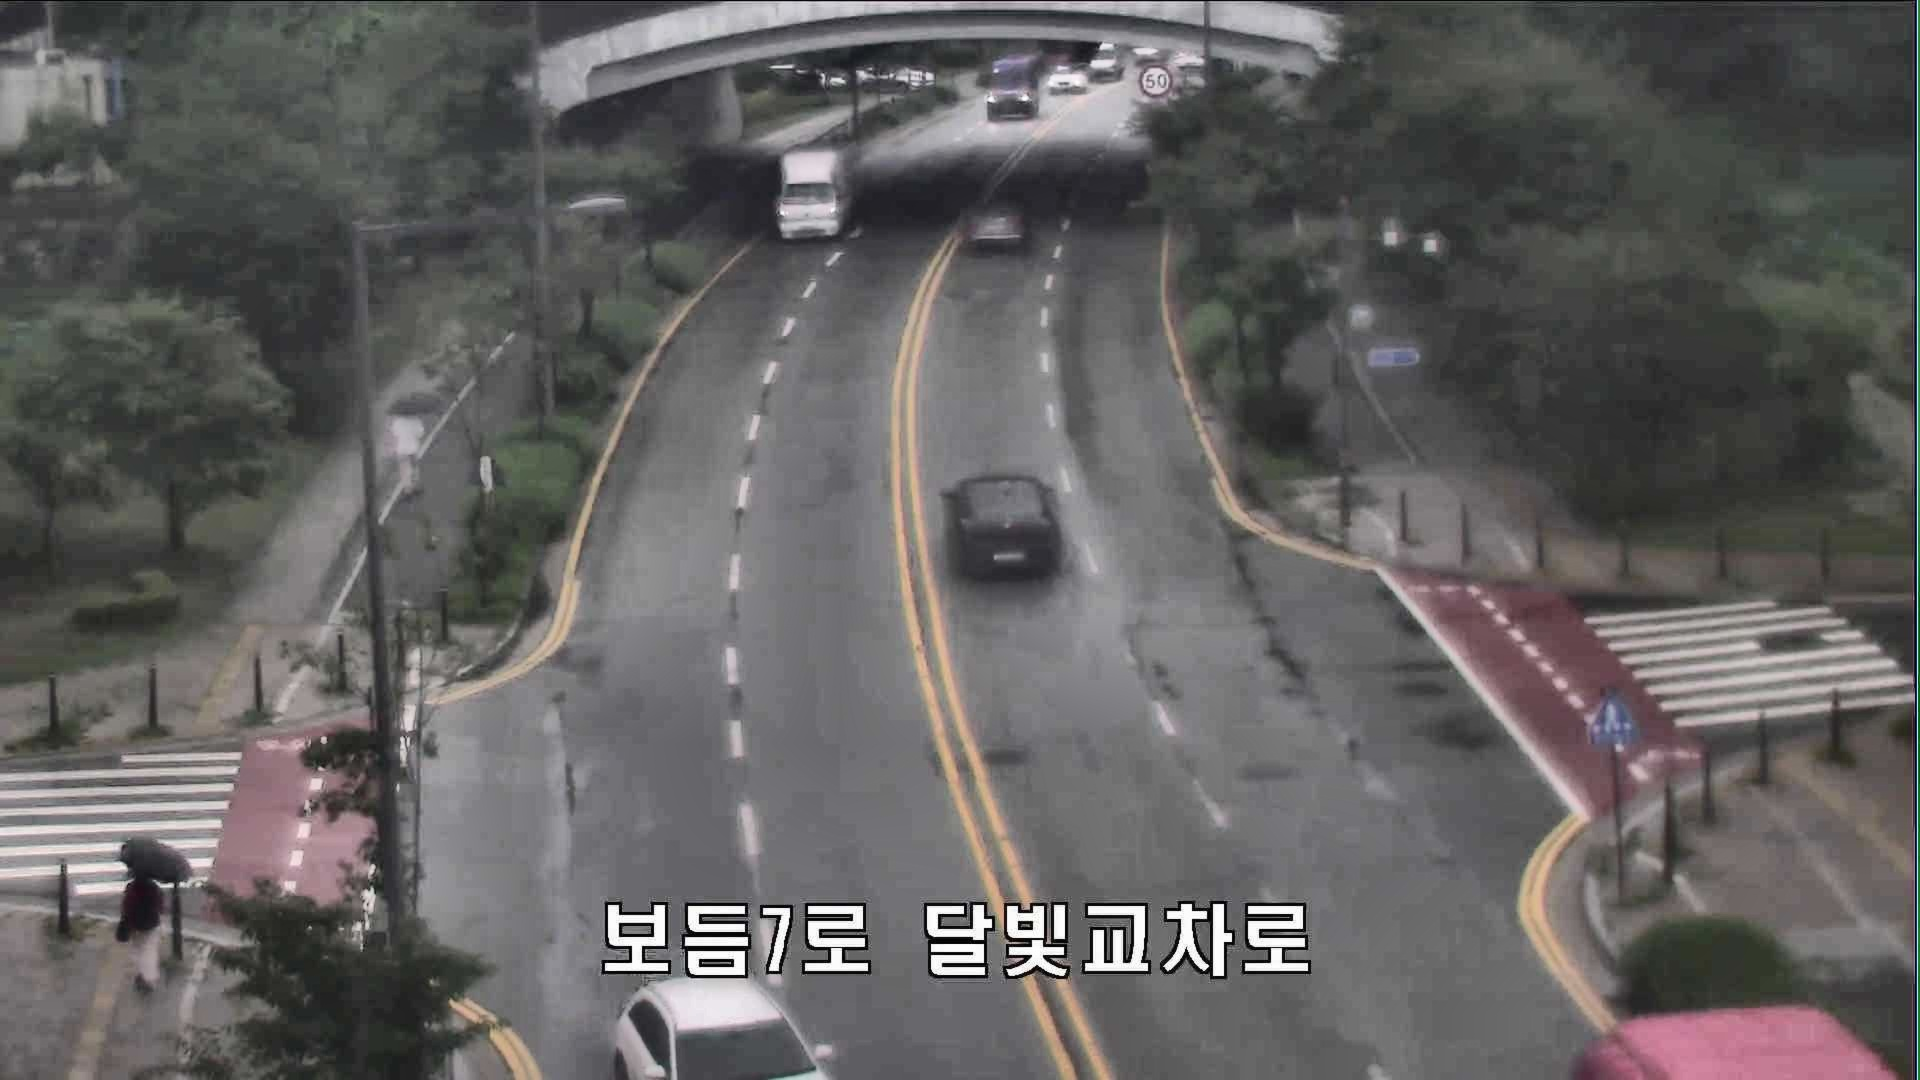um_sidewalk: (113, 841, 187, 989), (386, 392, 436, 496)
